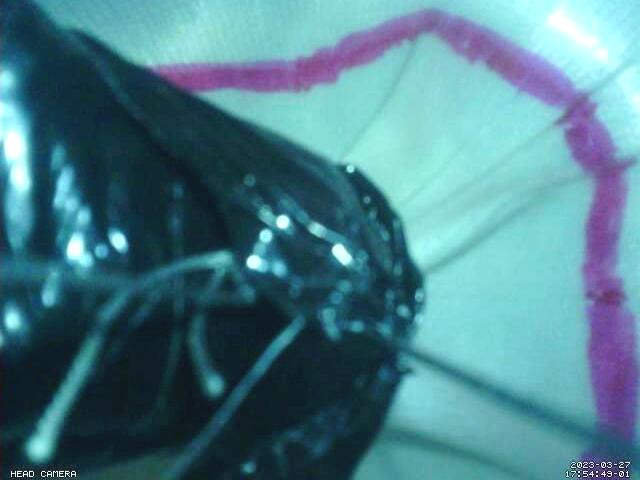red-circle: (150, 8, 640, 480)
